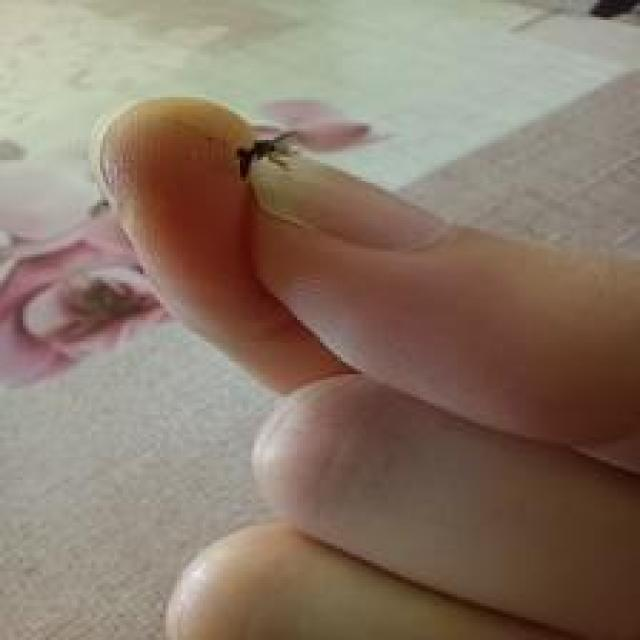Aedes albopictus: (234, 128, 300, 183)
